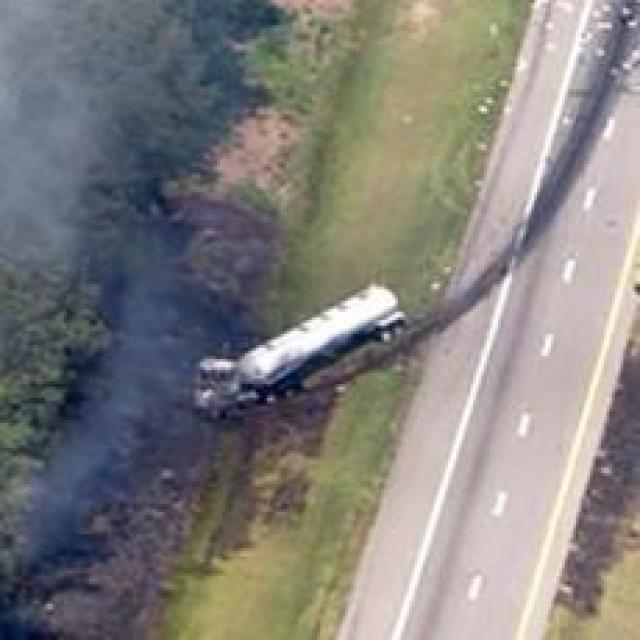traffic_incident: (181, 264, 401, 409)
